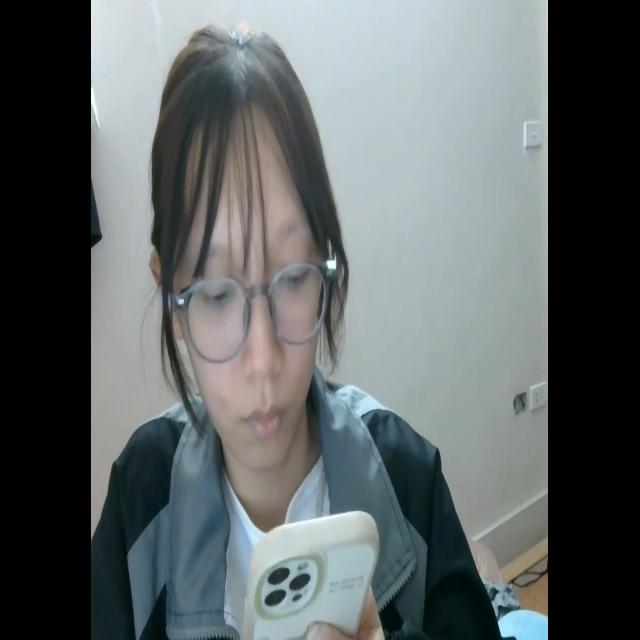phone: (236, 504, 384, 640)
student: (94, 22, 492, 640)
